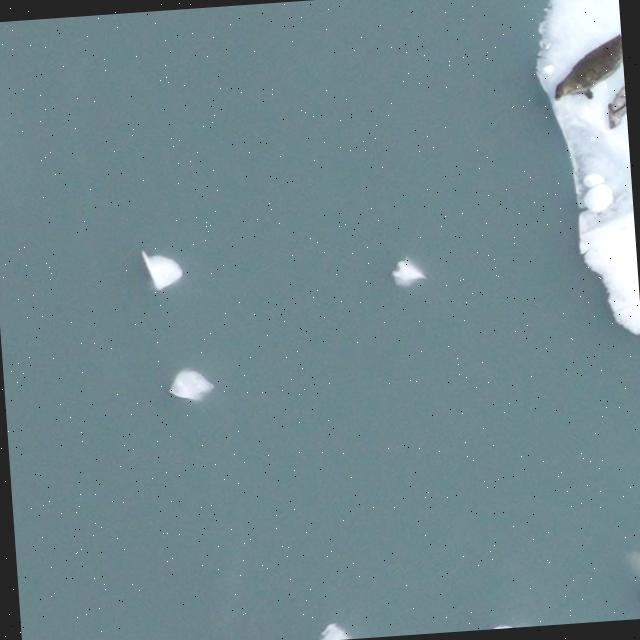seal: (545, 25, 639, 117), (607, 85, 626, 127)
